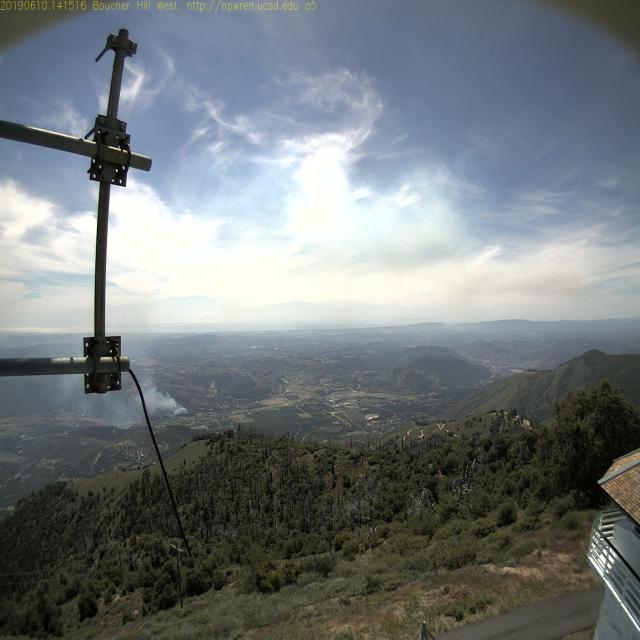smoke: (177, 393, 198, 422)
